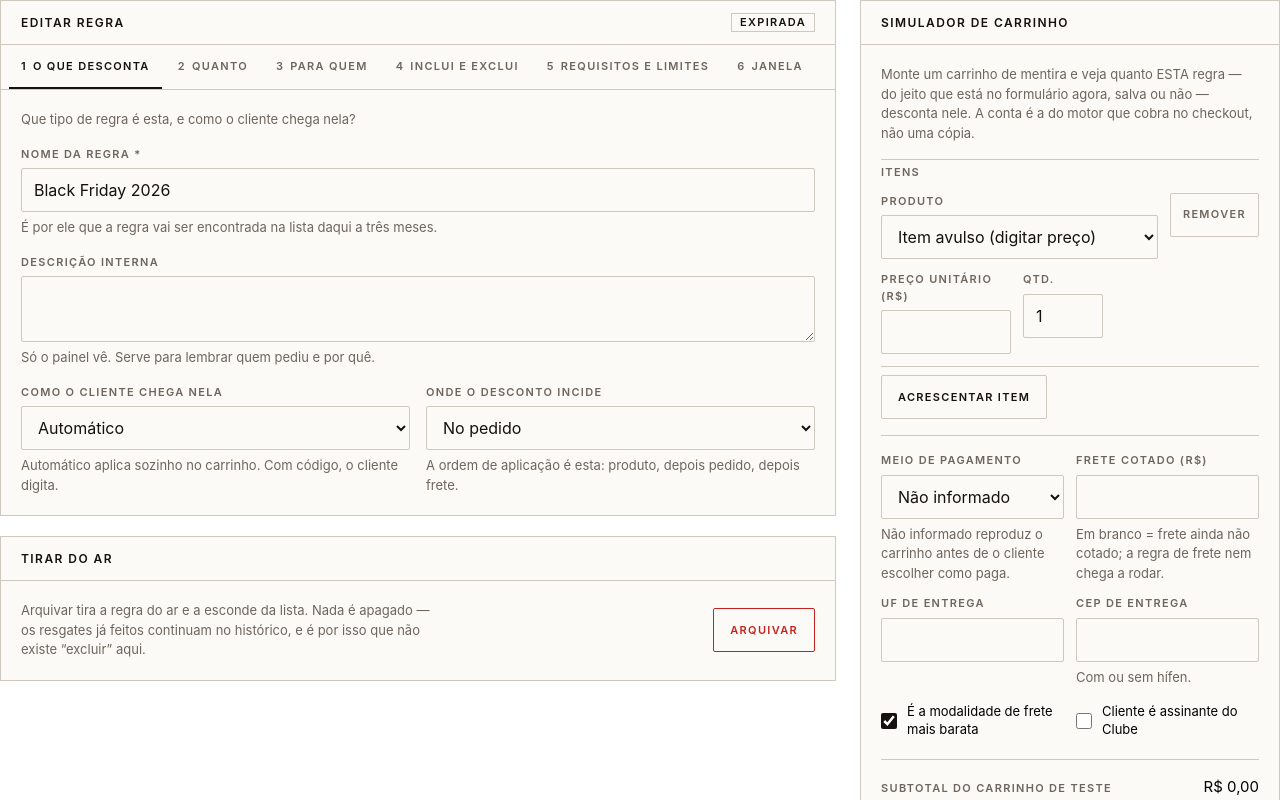
Test: arquivar nomeia o objeto e a consequência — R11/R12 › a confirmação diz o nome da regra e o que acontece com o histórico
Click the button "Arquivar".
click(764, 630)  # box [713,608,815,652]
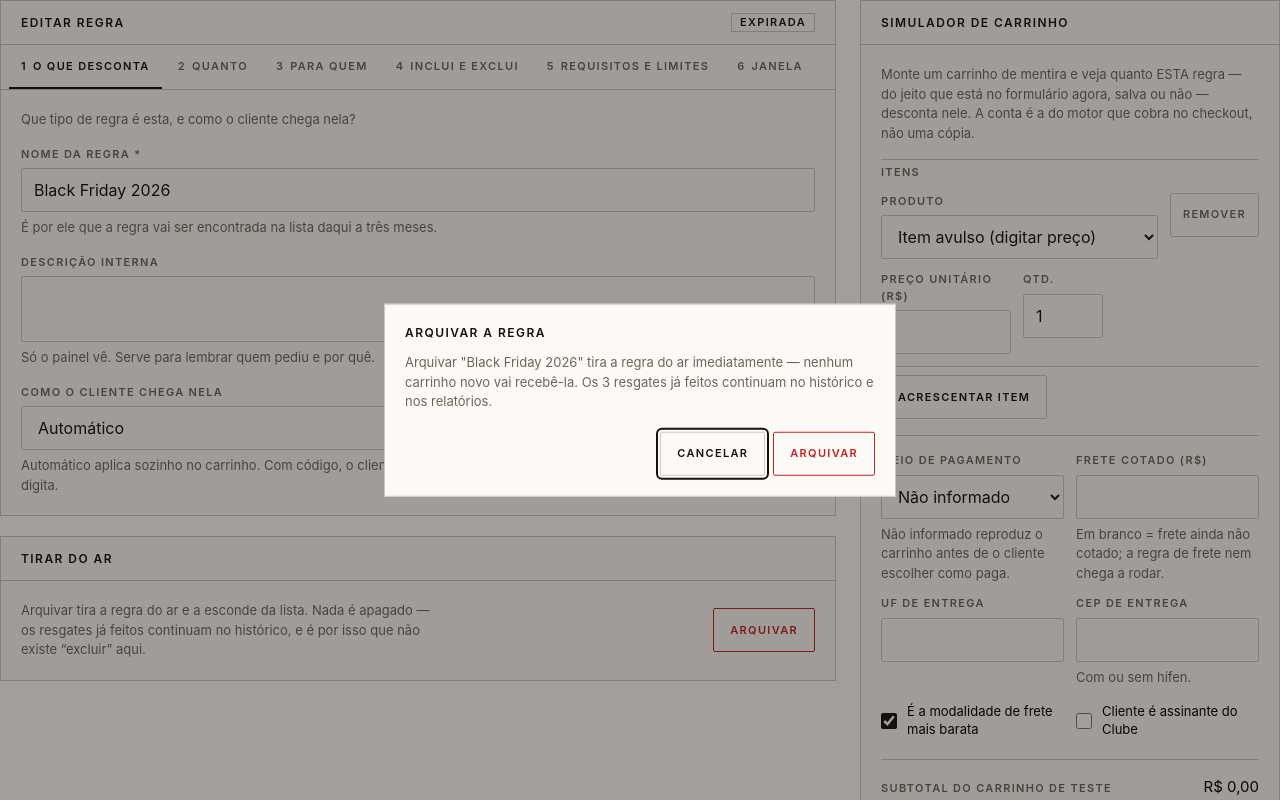
Check: the dialog shows "Black Friday 2026", box [405,354,874,409]
Check: the dialog shows "continuam no histórico", box [405,354,874,409]
